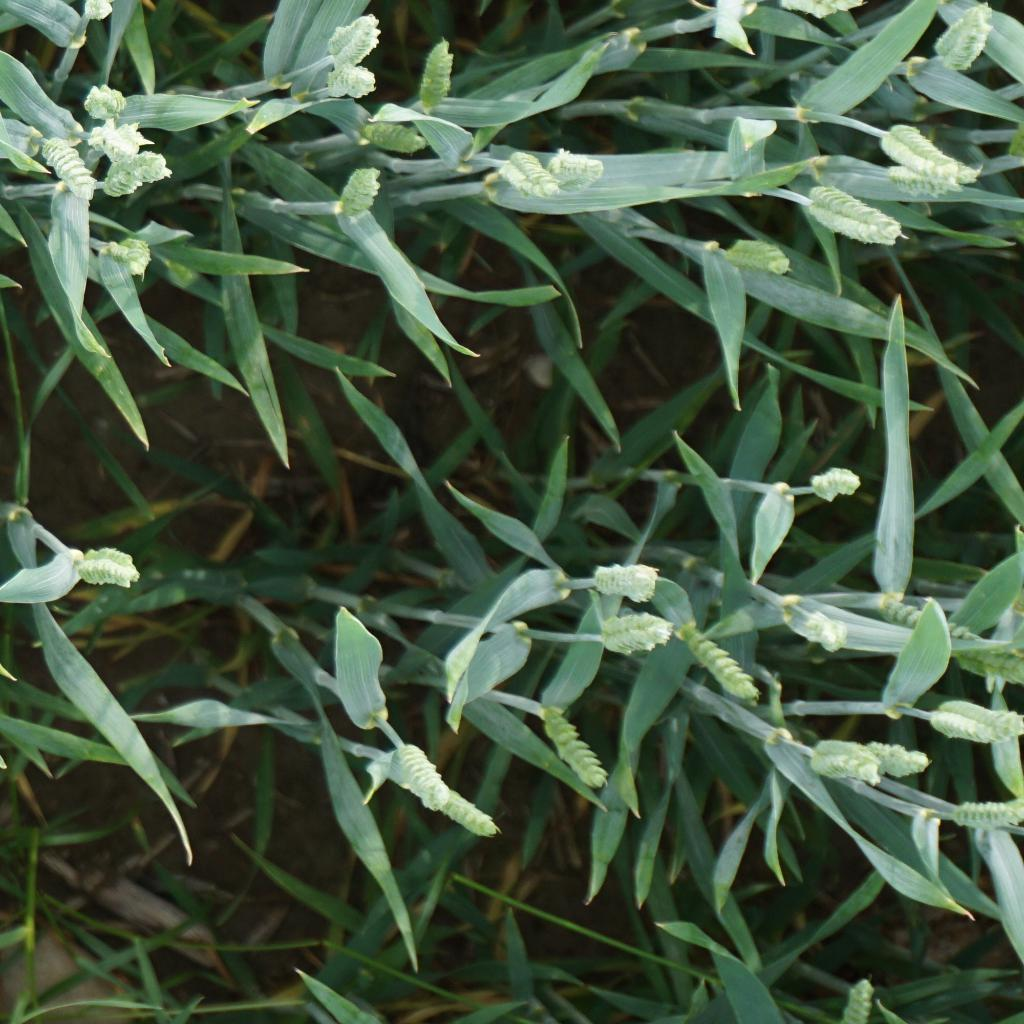0-0: (382, 757, 499, 838), (921, 612, 1024, 687), (877, 123, 985, 187), (34, 124, 108, 213), (676, 620, 757, 699), (806, 183, 905, 247), (922, 693, 1024, 749), (543, 702, 607, 790), (866, 586, 966, 640), (803, 738, 888, 796), (389, 739, 449, 813), (882, 158, 969, 209), (933, 0, 992, 72), (845, 736, 933, 780), (806, 450, 866, 508), (496, 147, 564, 198), (101, 151, 173, 199), (324, 12, 384, 68), (70, 543, 141, 590), (600, 611, 675, 655), (419, 37, 459, 119), (942, 798, 1024, 835), (88, 116, 151, 164), (543, 149, 604, 196), (803, 603, 854, 659), (717, 237, 792, 274), (593, 561, 662, 601), (829, 974, 883, 1024), (357, 117, 427, 154), (339, 163, 384, 216), (103, 237, 152, 279), (84, 80, 129, 119), (329, 65, 379, 100)
